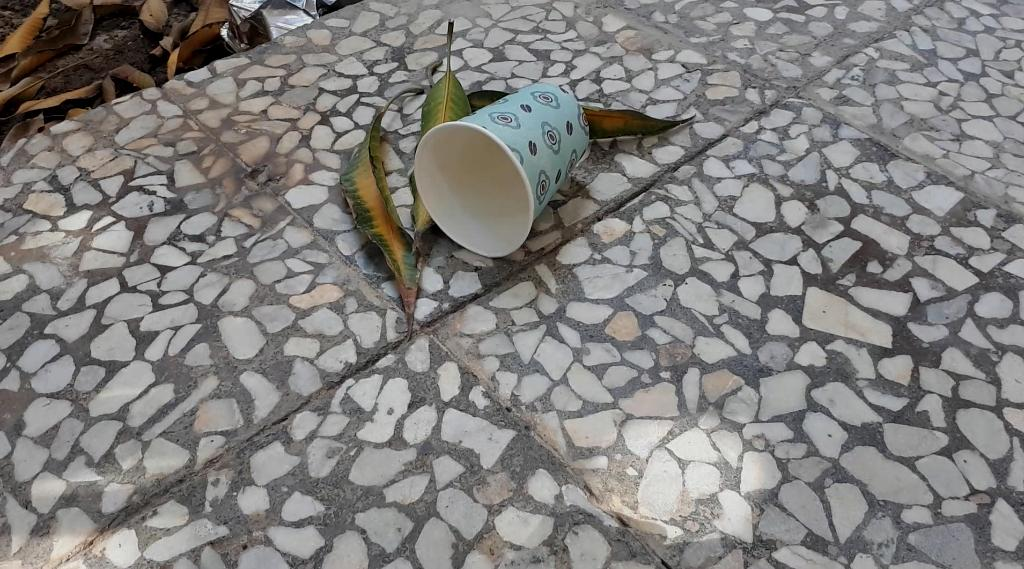garbage: (391, 65, 606, 258)
